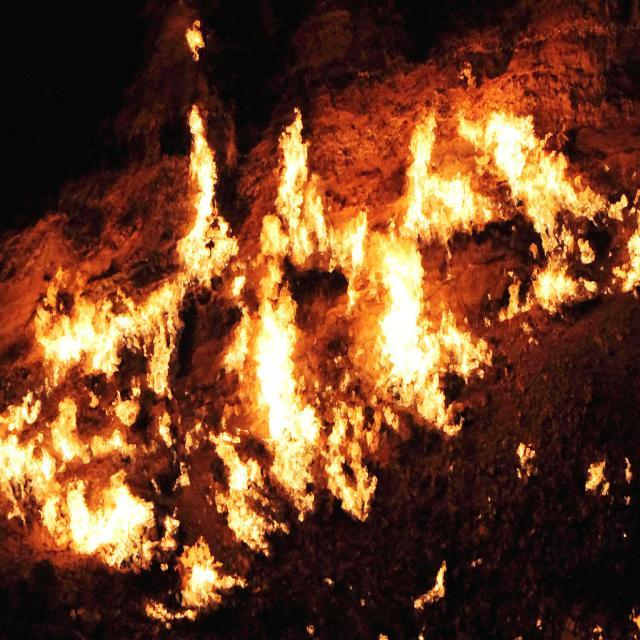Fire: (368, 250, 439, 386), (254, 314, 308, 458), (69, 470, 146, 559), (47, 298, 121, 375), (0, 425, 60, 506), (485, 114, 545, 186), (397, 180, 474, 234)
